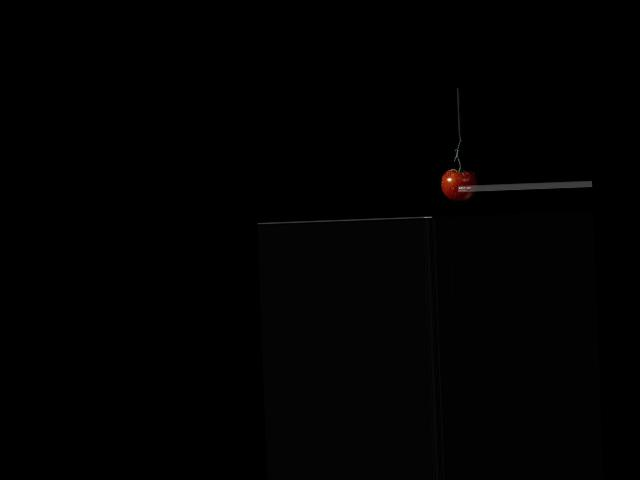tomato: (441, 169, 476, 200)
